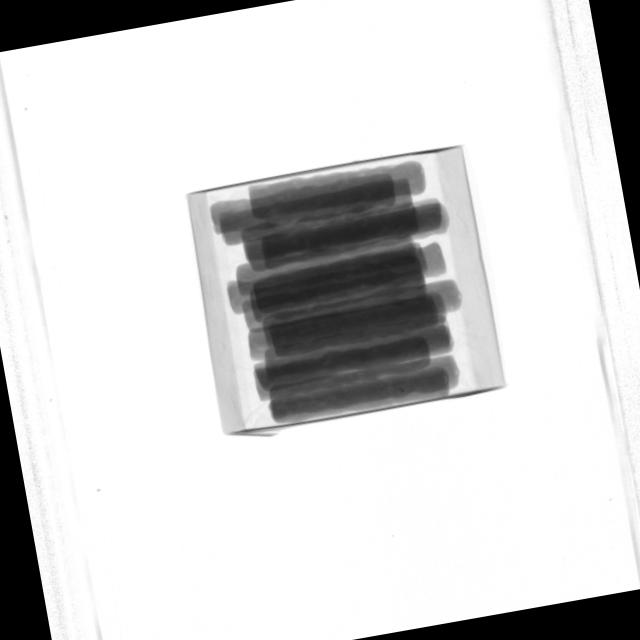ym: (399, 388, 404, 393)
